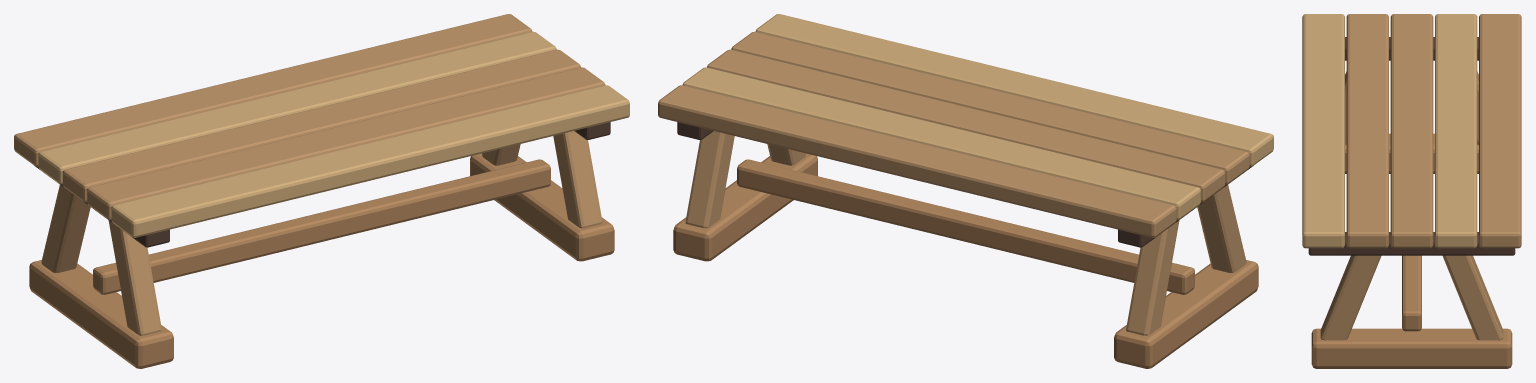
The model's file is table_communal_2_6m.glb.
The picture shows the model from 3 angles, left to right: view 1: azimuth 30°, elevation 25°; view 2: azimuth 150°, elevation 25°; view 3: azimuth 270°, elevation 25°; orthographic projection. The views are drawn at different scales.
Visible parts, largest first — view 1: table_communal_2_6m; view 2: table_communal_2_6m; view 3: table_communal_2_6m.
Part boxes in pixels (x1,y1,x2,y2): table_communal_2_6m: [14, 14, 629, 368]; table_communal_2_6m: [658, 14, 1273, 368]; table_communal_2_6m: [1302, 14, 1521, 368].
Bounding box in the file's own units: 2.6 × 0.78 × 1.09.
